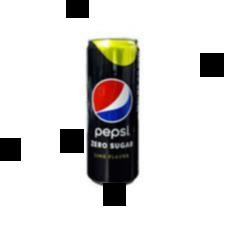pepsi_zero: (81, 35, 141, 189)
